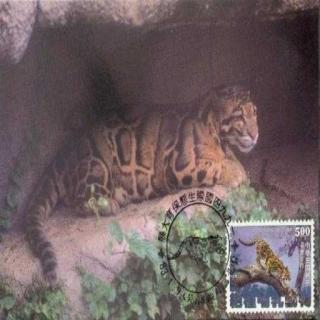Leopard: (62, 69, 285, 222)
